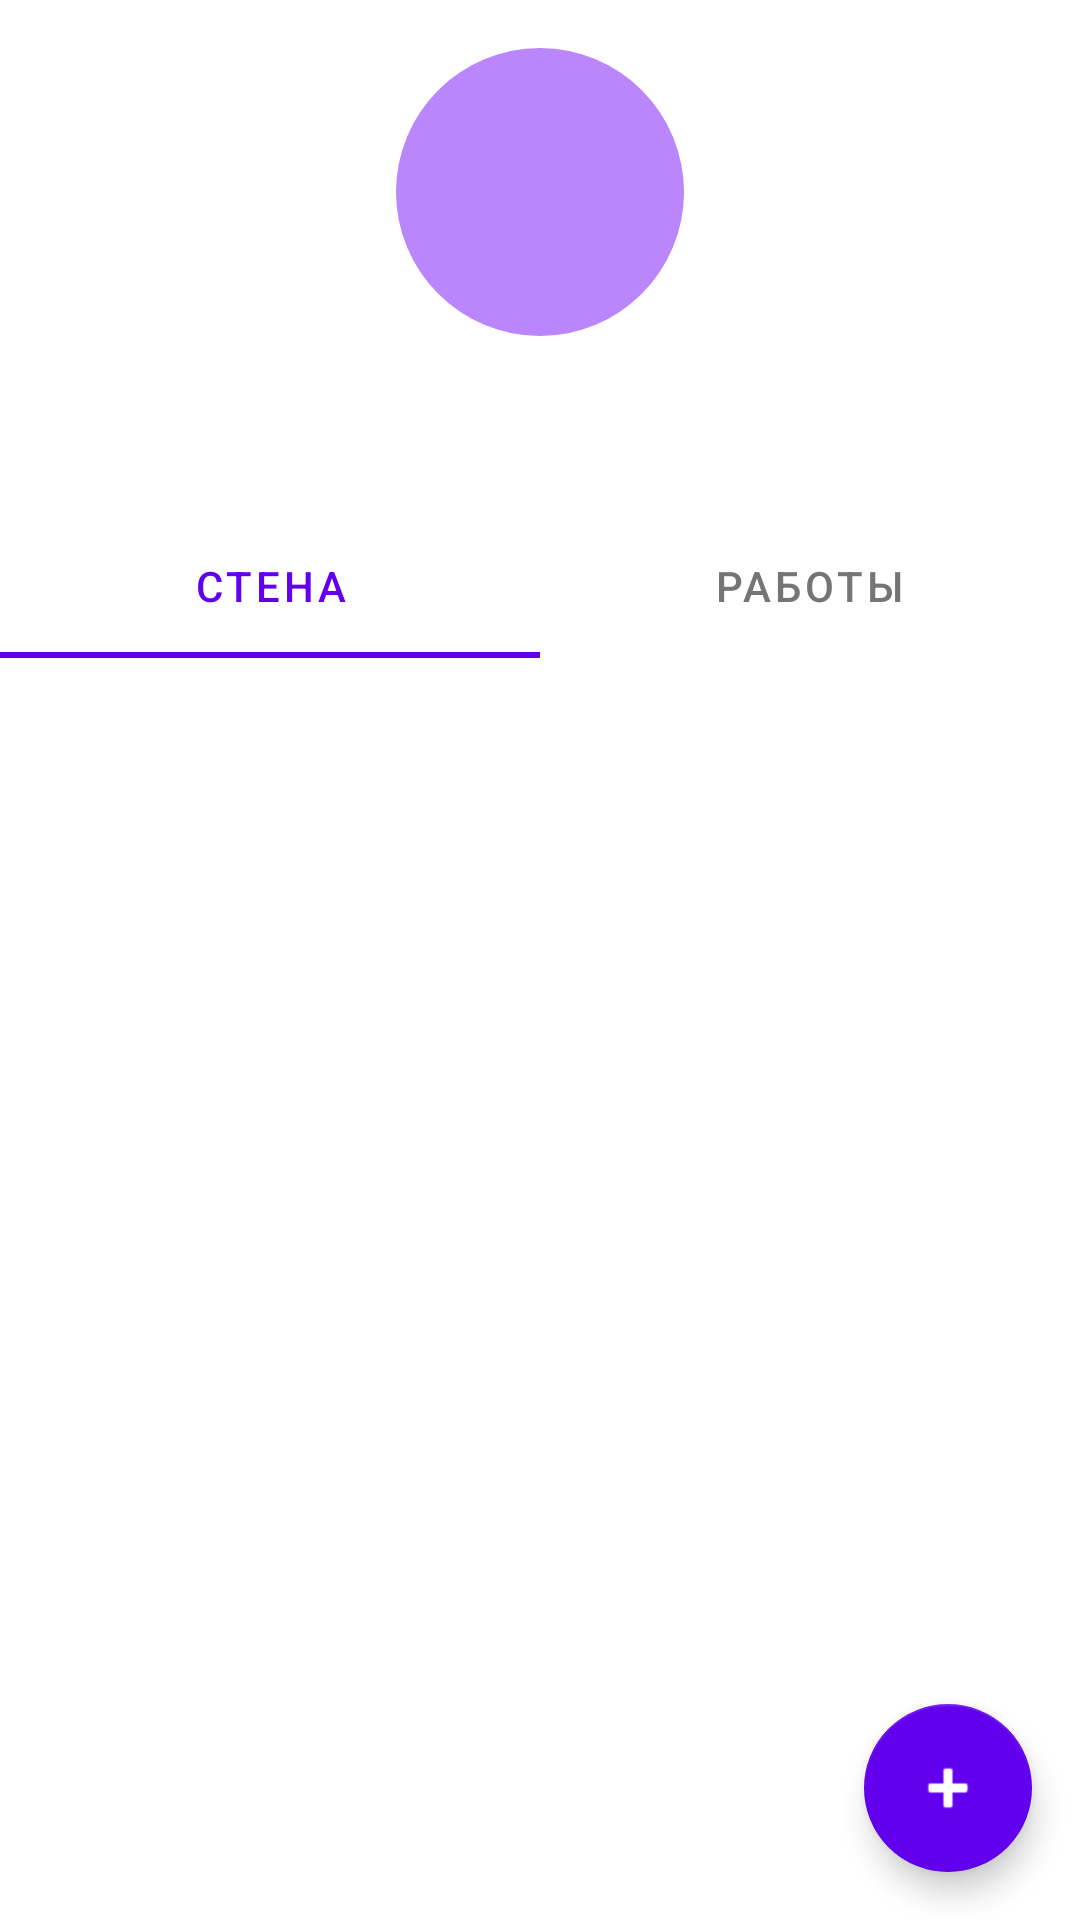

Icons on this 1080w x 1920h Android screen, each with the point to tap as [x,y]:
добавить работу: [948,1788]
